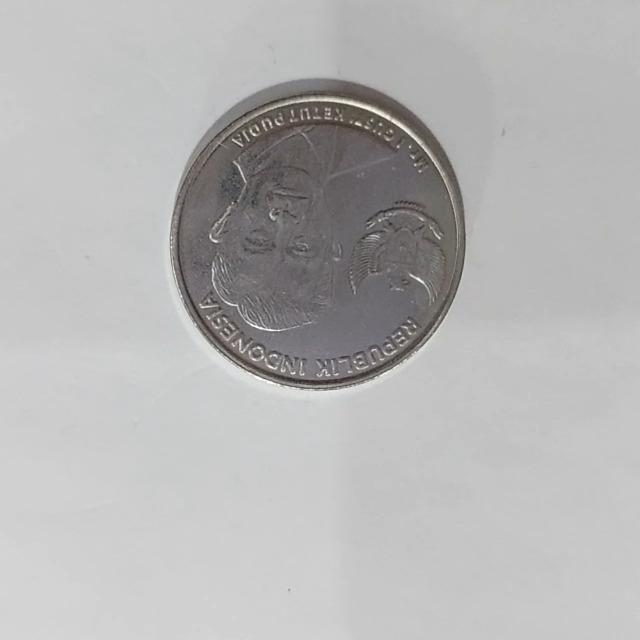Rp100: (167, 78, 467, 391)
